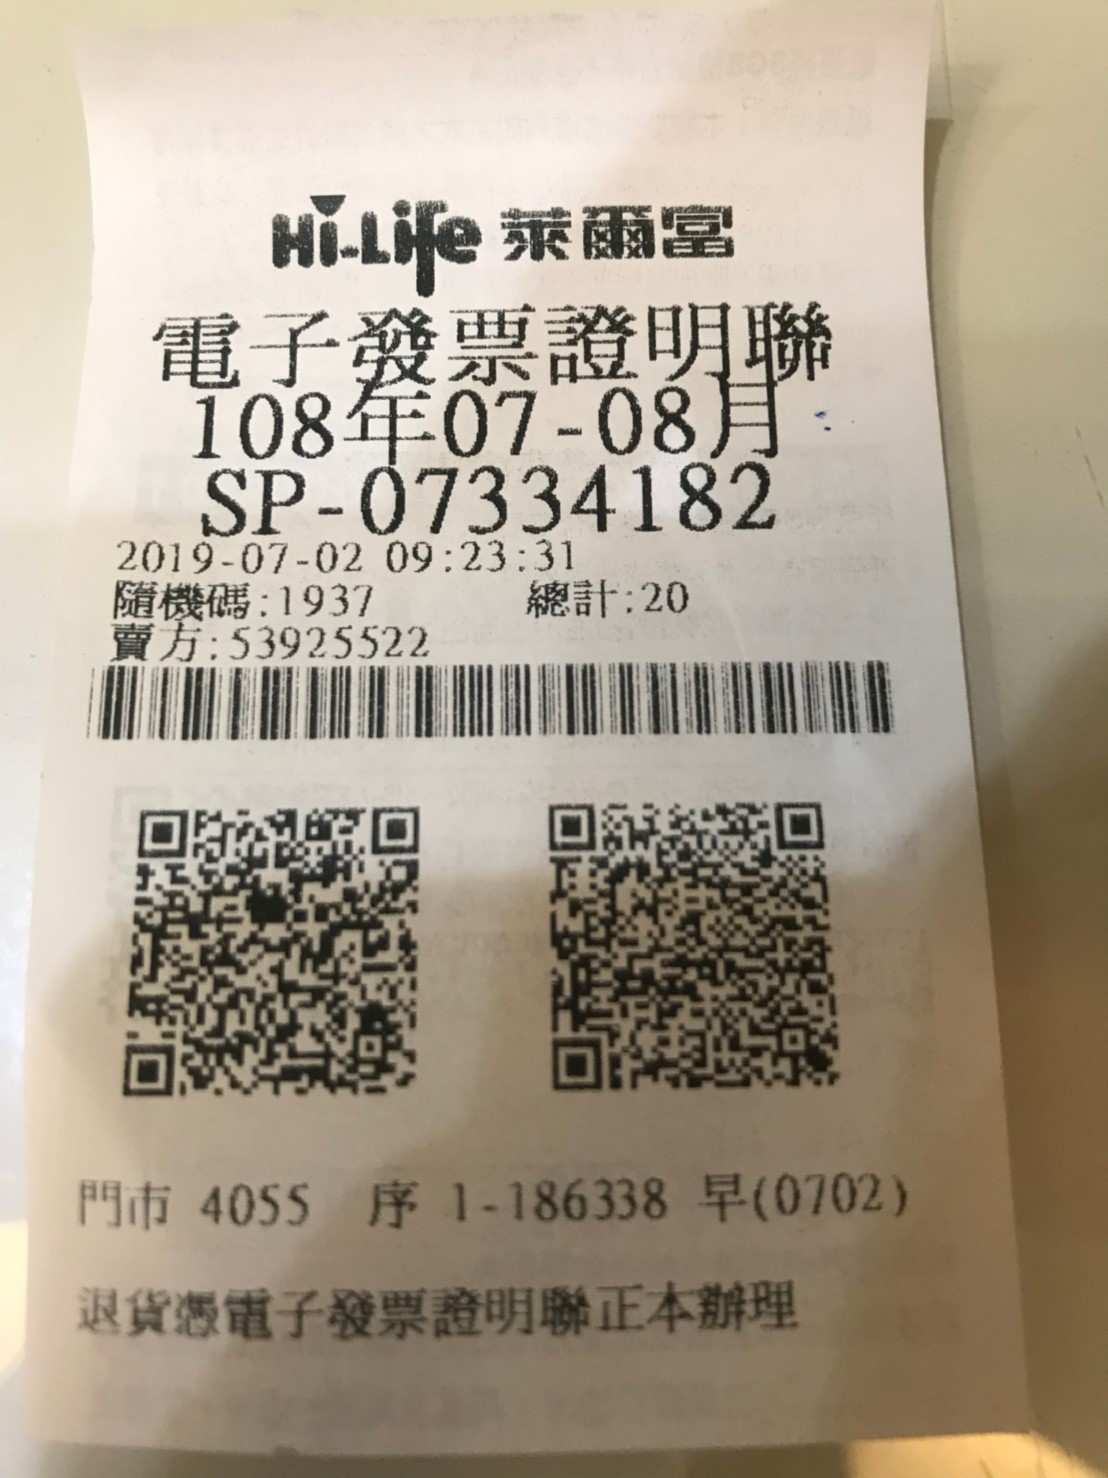Date_New: (190, 382, 783, 463)
Number_New: (358, 459, 777, 539)
